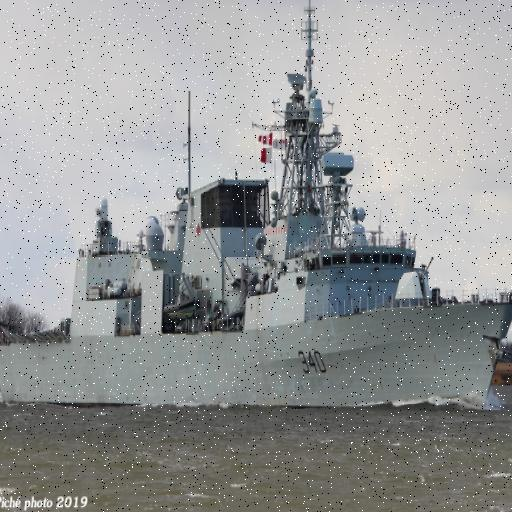Fragata: (1, 1, 512, 410)
